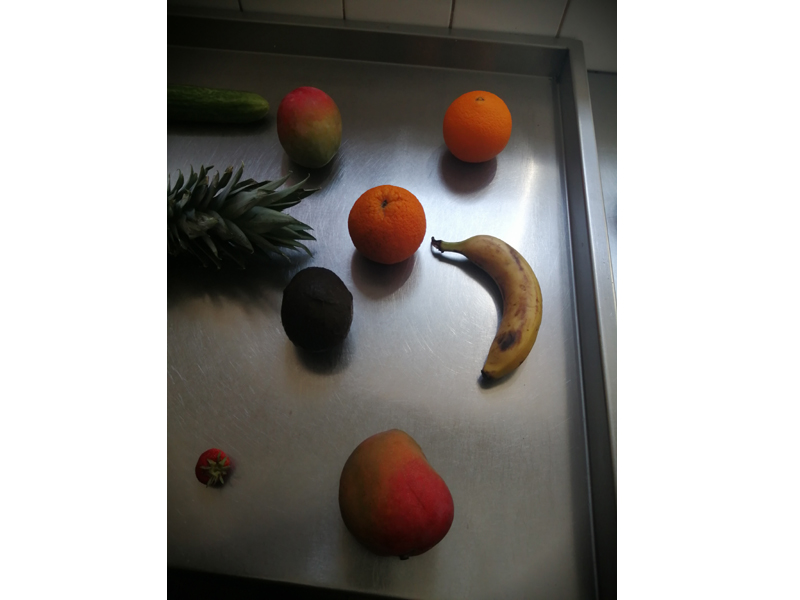avocado: (272, 266, 357, 363)
banana: (427, 224, 547, 384)
mango: (328, 424, 457, 563), (276, 84, 352, 175)
orange: (431, 83, 528, 168), (341, 178, 427, 267)
strawberry: (187, 435, 236, 499)
